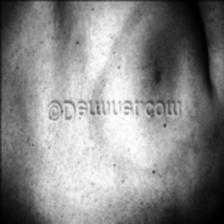Toxin: (146, 42, 182, 85)
